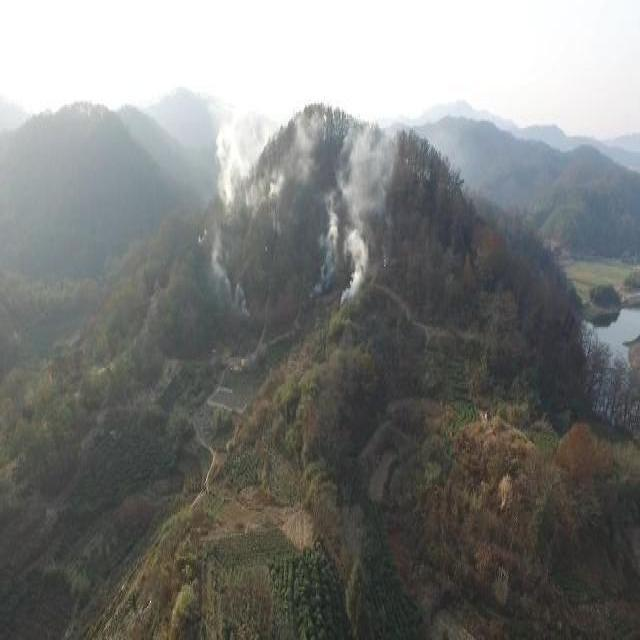Smoke: (209, 95, 399, 316)
